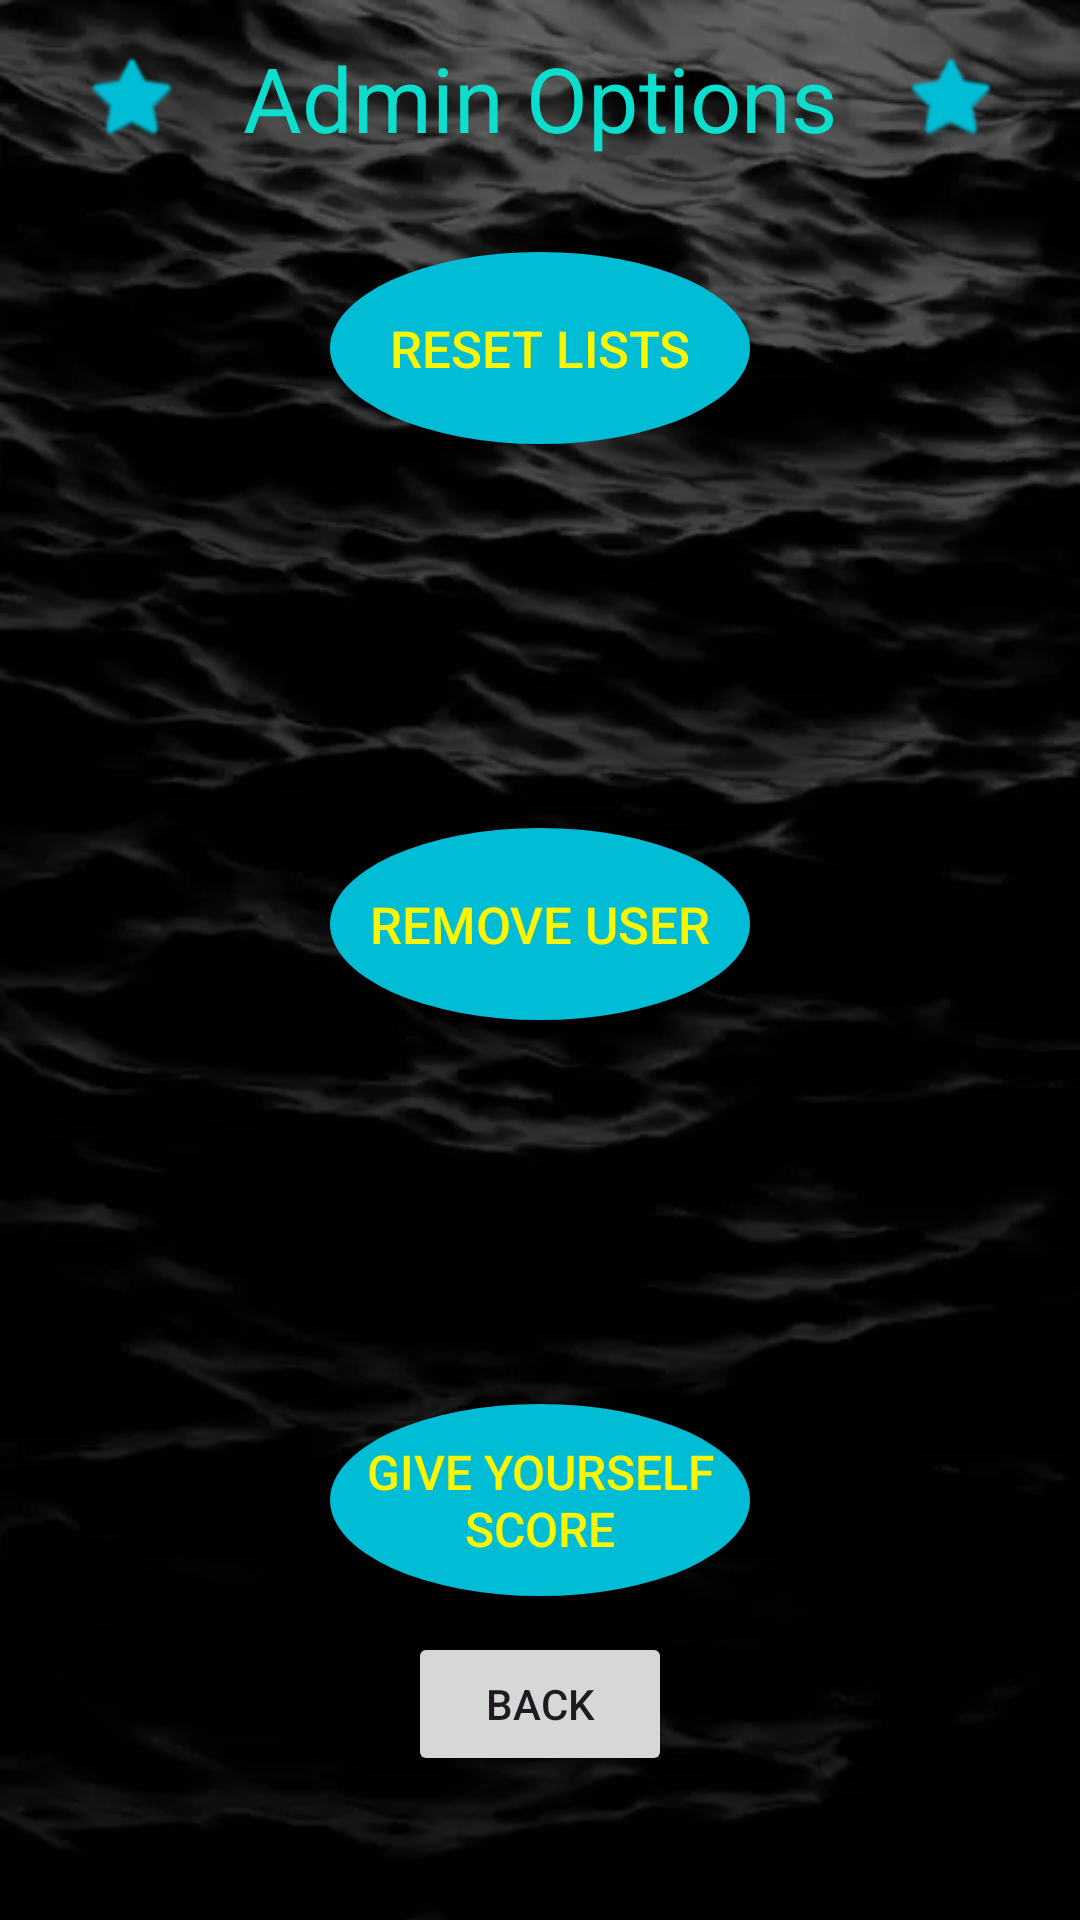

Where icons sit on this 1080px x 1920px app screen, as box=[x1, y1, x2, y2]:
star: box=[83, 48, 179, 144], box=[902, 48, 998, 144]
